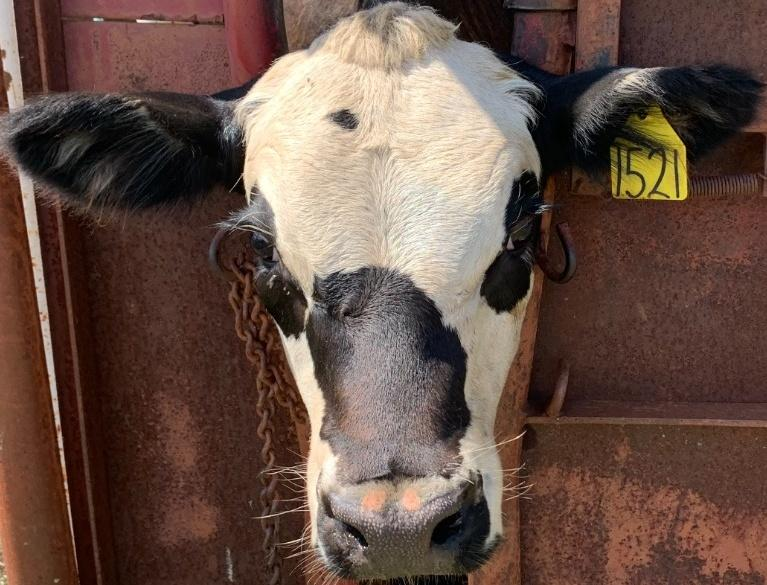muzzles: (292, 467, 508, 584)
